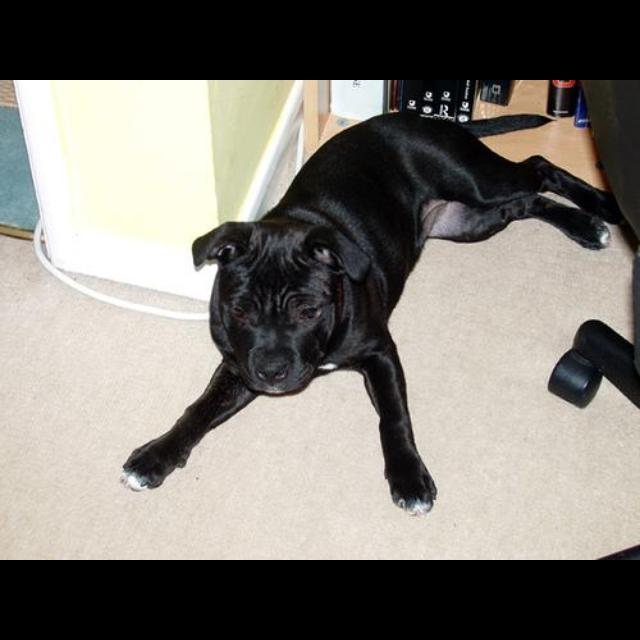staffford: (121, 109, 626, 517)
